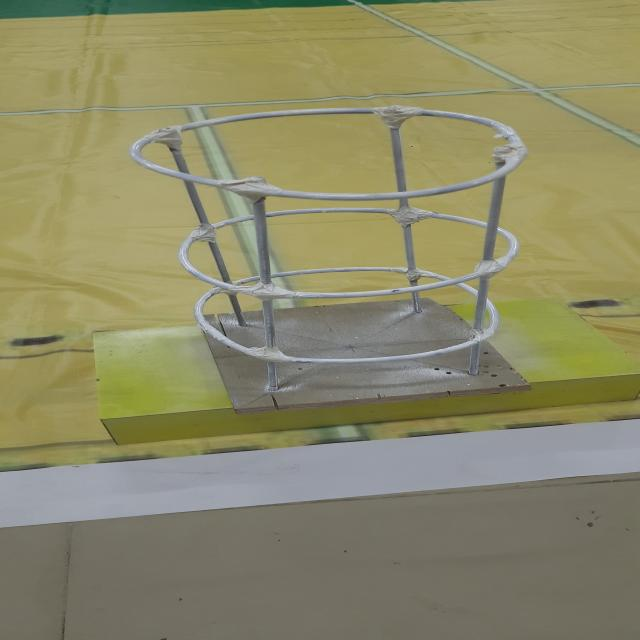silo: (93, 92, 558, 420)
